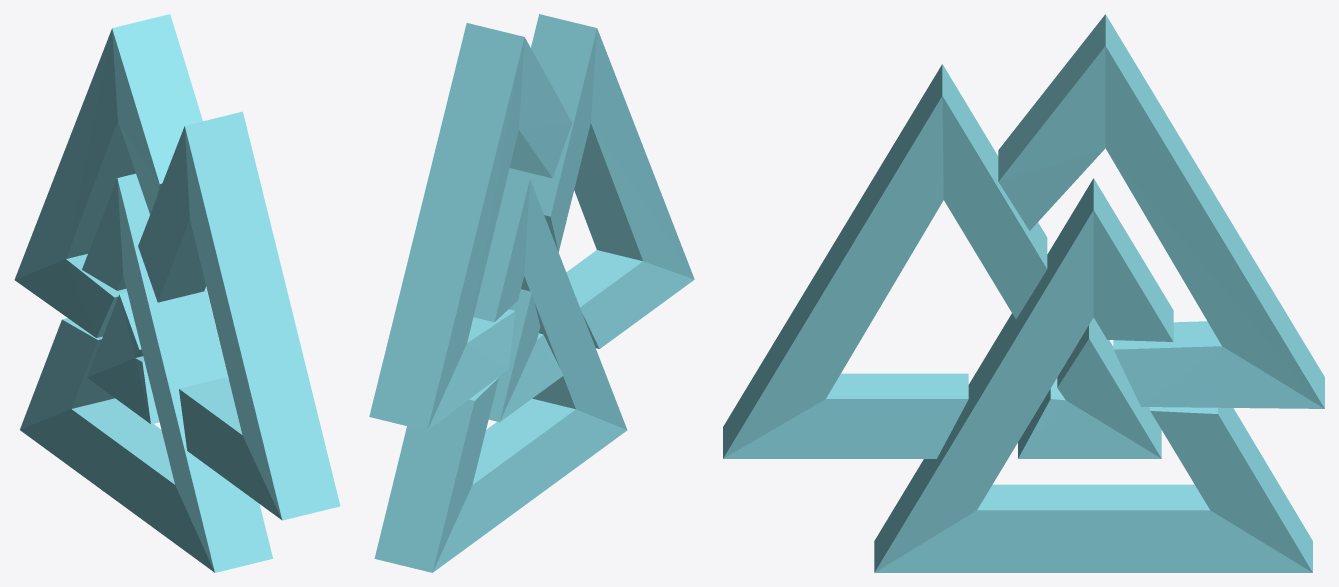
The model's file is Valknud.FBX.
3 renders of one model, left to right at view 1: azimuth 30°, elevation 25°; view 2: azimuth 150°, elevation 25°; view 3: azimuth 270°, elevation 25°, orthographic. The views are drawn at different scales.
Parts seen in each view (by area): view 1: Line003; view 2: Line003; view 3: Line003.
Part boxes in pixels (left/top/right/bottom): Line003: left=14, top=14, right=340, bottom=572; Line003: left=369, top=14, right=694, bottom=572; Line003: left=723, top=14, right=1324, bottom=572.
Size of the model in its own units: 19.48 by 150 by 156.
